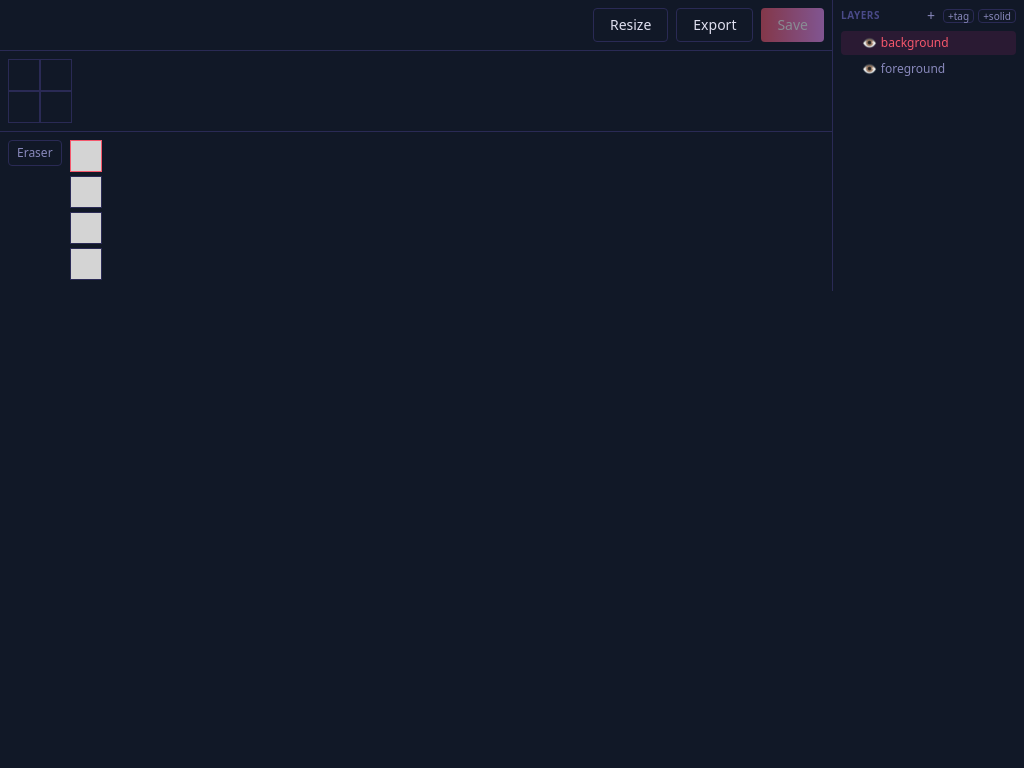
TileMapEditor — marker layers › deleting an in-use tag opens a confirm dialog with the right counts
Check: the text "background" is shown, box [881,34,949,51]
Click the button with aria-label "Add marker layer" at (959, 16), box [943,8,974,22]
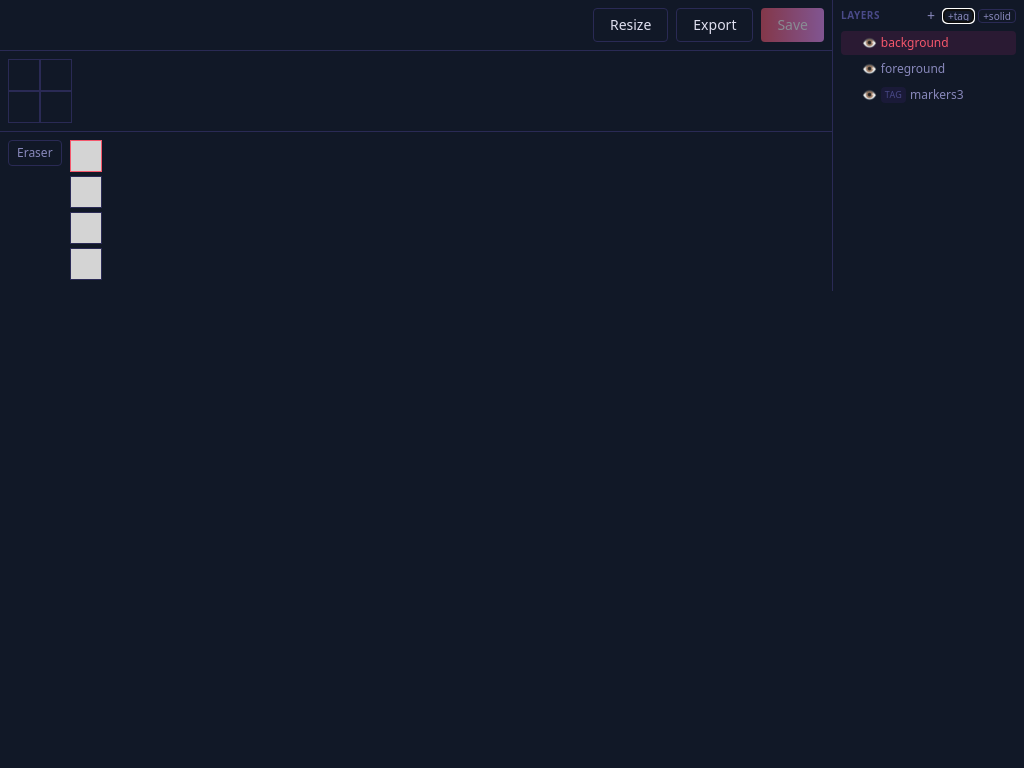
Click the text "markers3" at (937, 94), box [910,86,964,103]
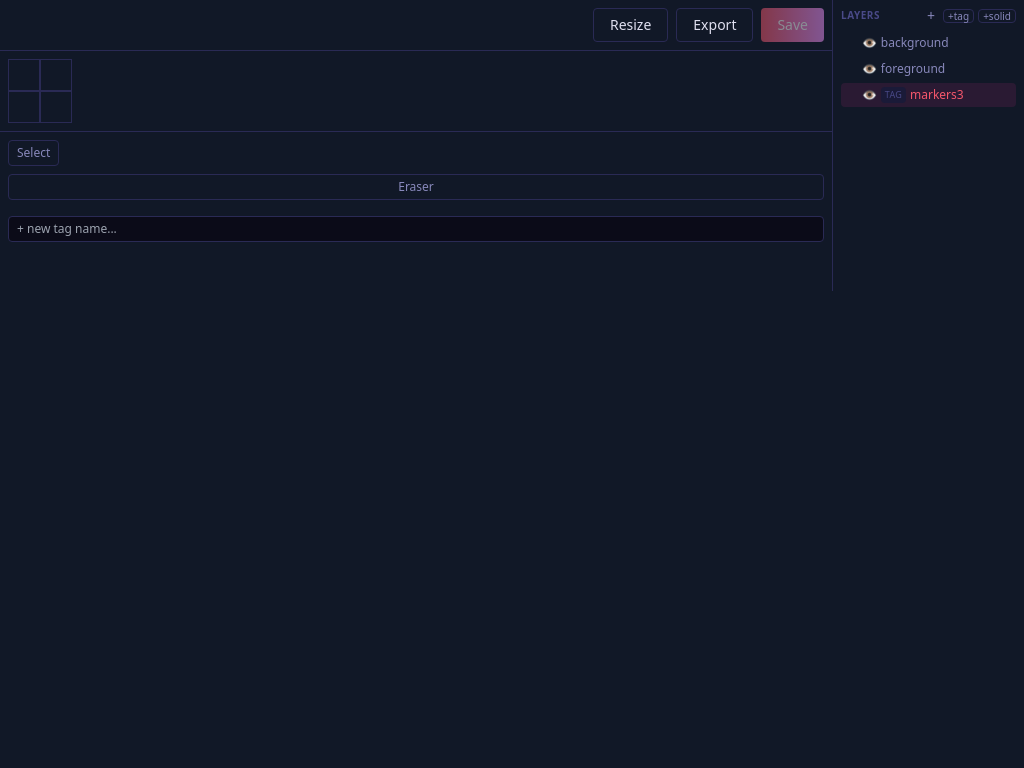
Type "rogue" into the field labelled "new tag name" at (416, 229), box [8,216,824,242]
Then press Enter
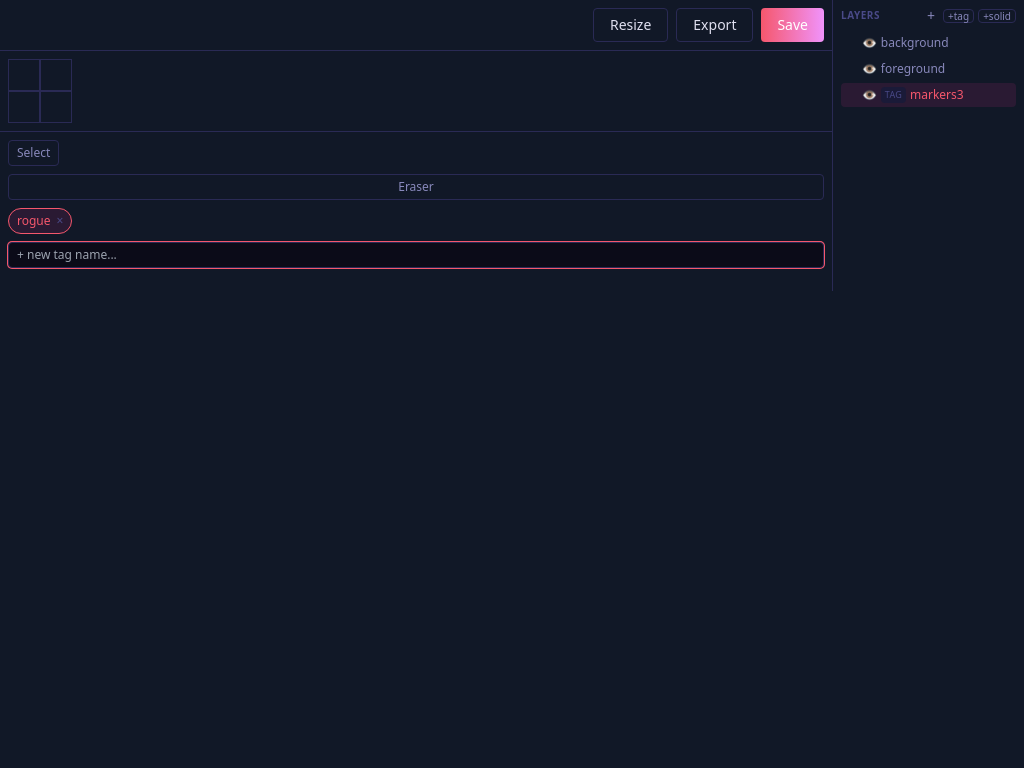
Press the mouse on the cell named "Row 0, Column 0" at (24, 75), box [8,59,40,91]
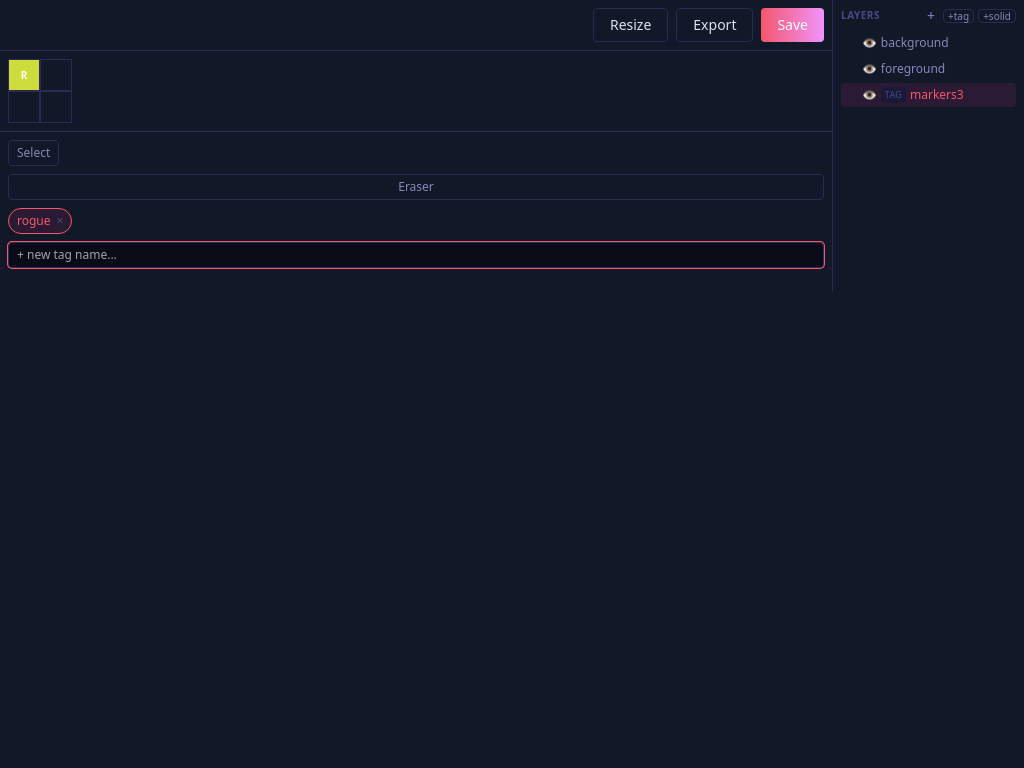
Press the mouse on the cell named "Row 0, Column 1" at (56, 75), box [40,59,72,91]
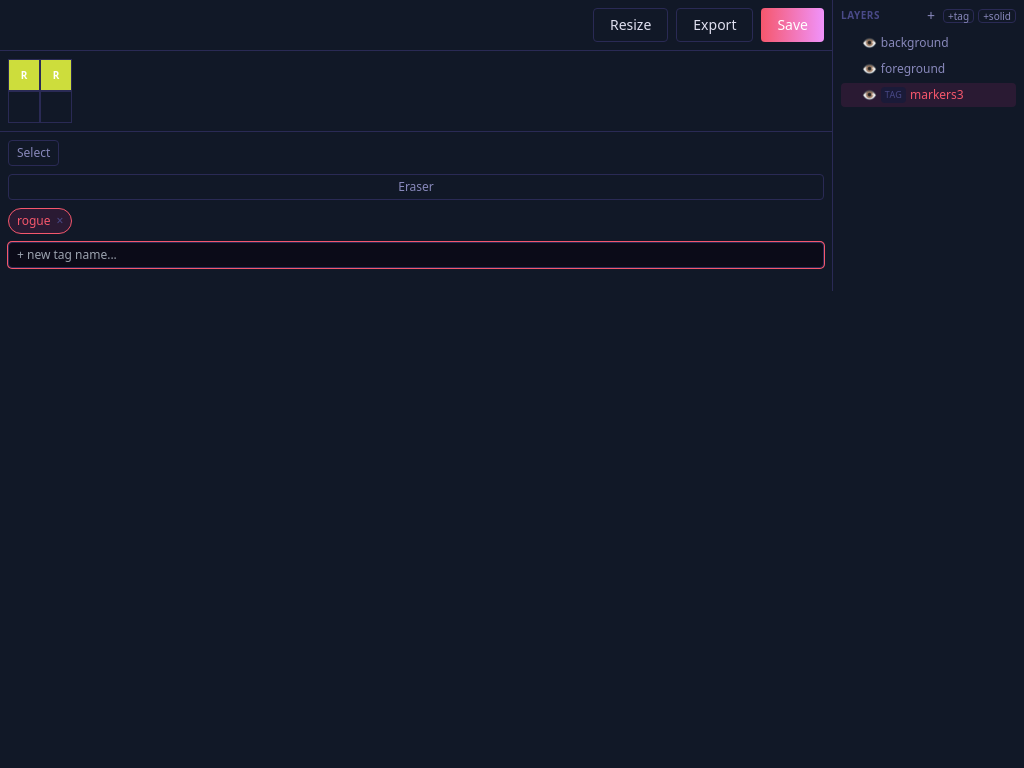
Click the button named "Delete tag rogue from tilemap" at (63, 221), box [54,209,71,233]
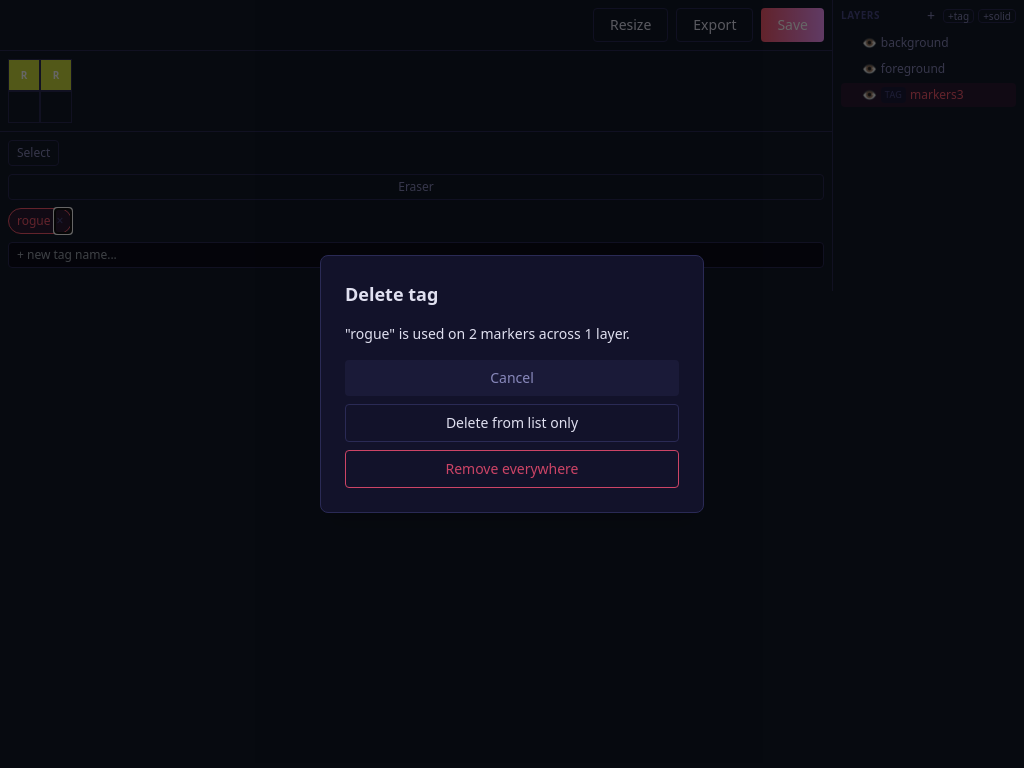
Check: the dialog named "Delete tag rogue" is shown, box [320,255,704,513]
Check: the text "\"rogue\" is used on 2 markers across 1 layer." is shown, box [345,324,679,344]
